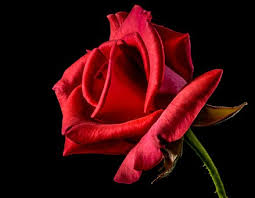lale: (32, 3, 239, 198)
